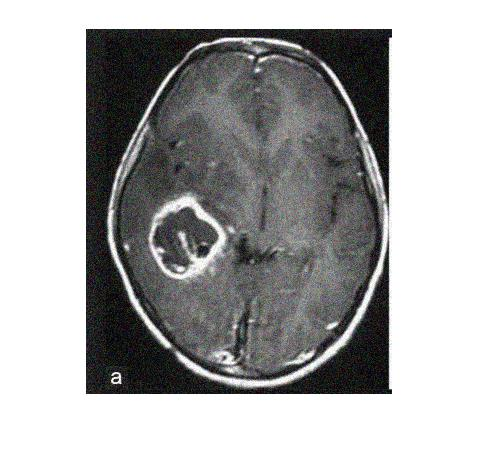Brain_Cancer: (144, 192, 231, 284)
